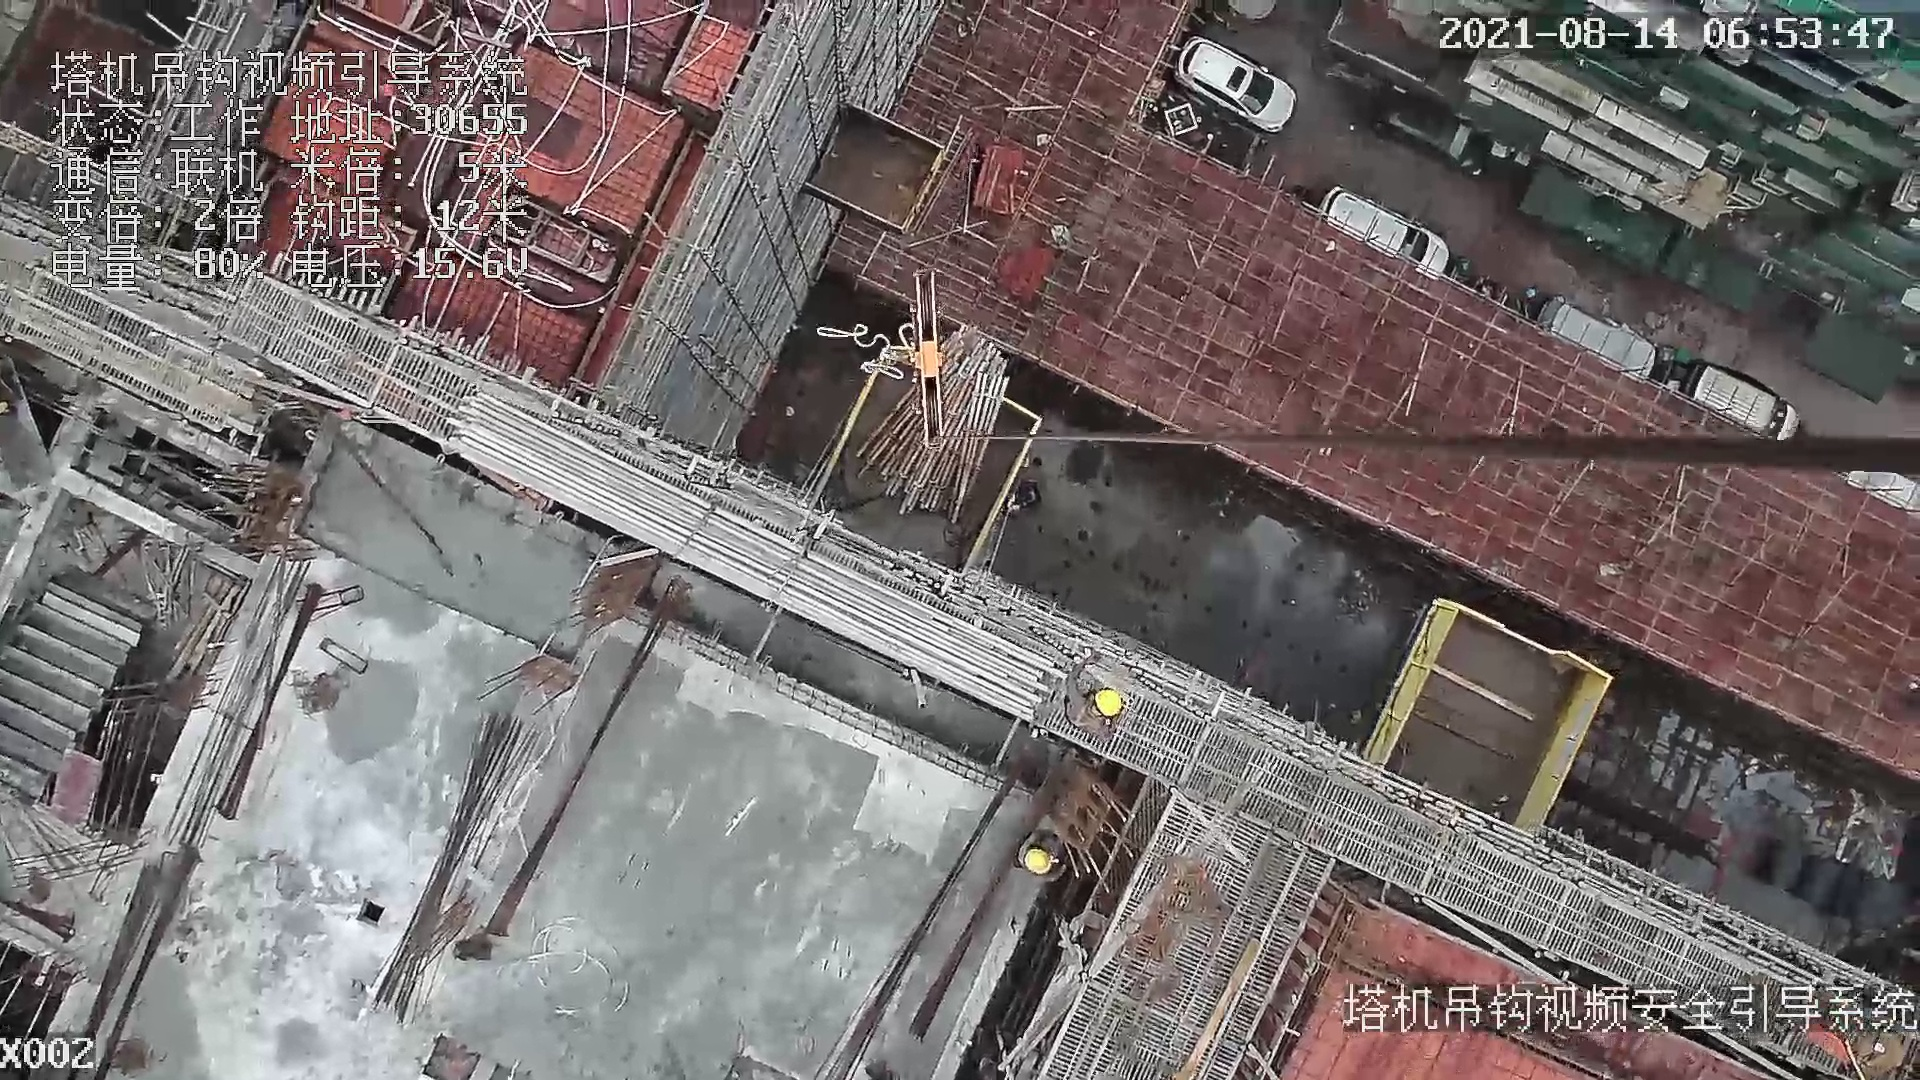helmet: (1094, 690, 1120, 717), (1024, 850, 1051, 874)
hook: (901, 276, 953, 450)
person: (1063, 651, 1127, 737), (1009, 823, 1073, 881)
rebar: (435, 391, 1058, 724), (364, 714, 541, 1025)
scaffold: (861, 329, 1011, 523)
